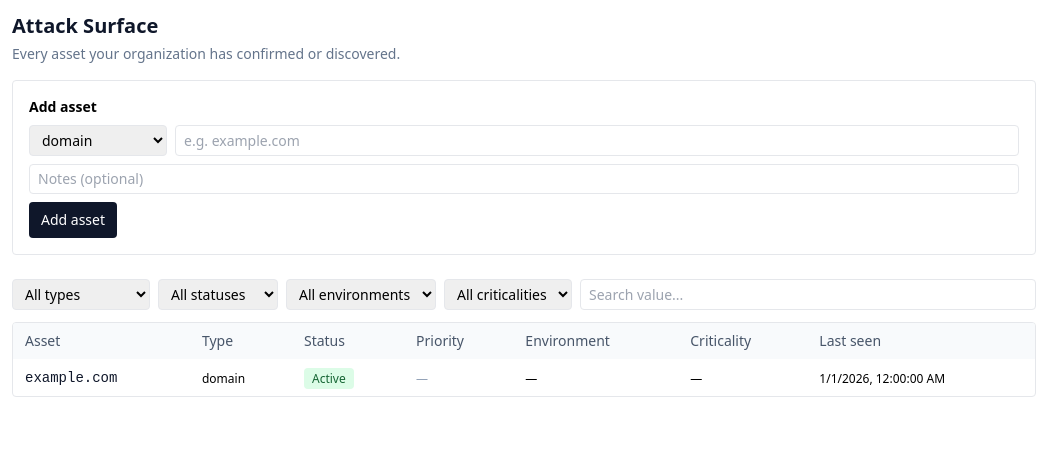
it: AssetsPage › surfaces a 409 duplicate-asset error without losing the form input
Expected: the link "example.com" is shown, [25,370,117,386]
Type "example.com" into the field with placeholder "e.g. example.com" at (597, 140), box [175,125,1019,156]
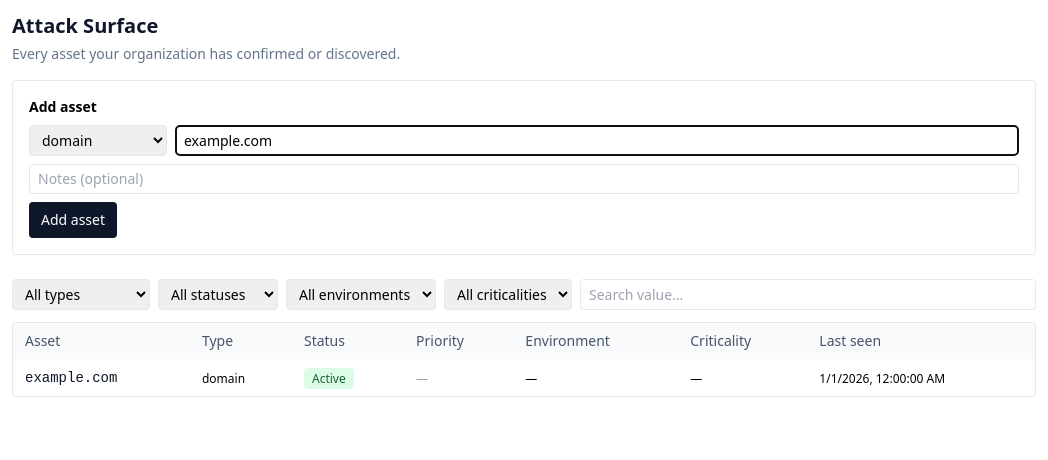
Click the button "Add asset" at (73, 220), box [29,202,117,238]
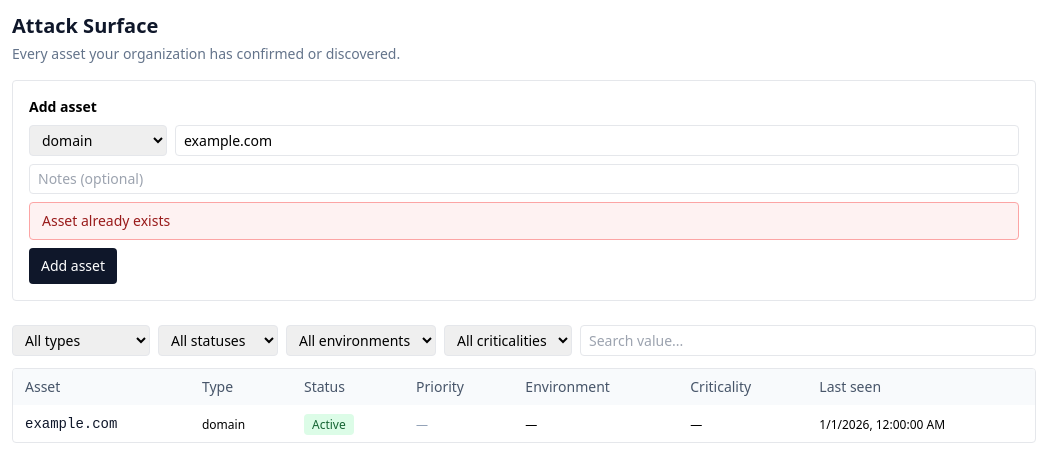
Now the text "Asset already exists" is shown, box [29,202,1019,240]
